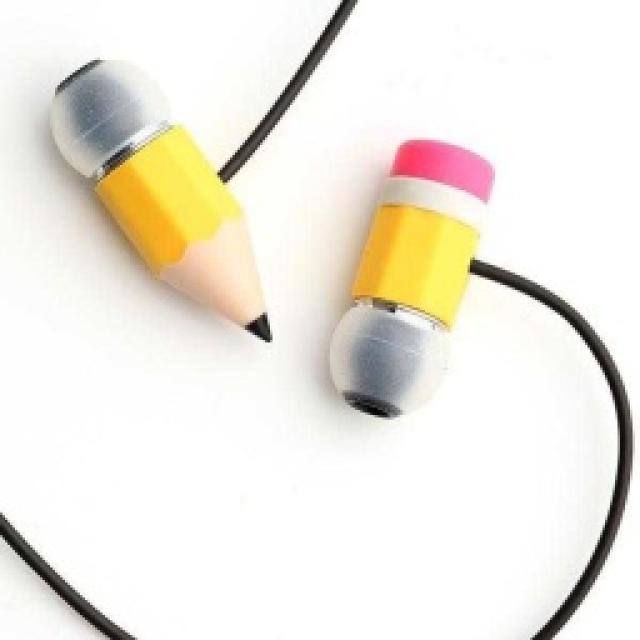pencil: (325, 132, 497, 420)
